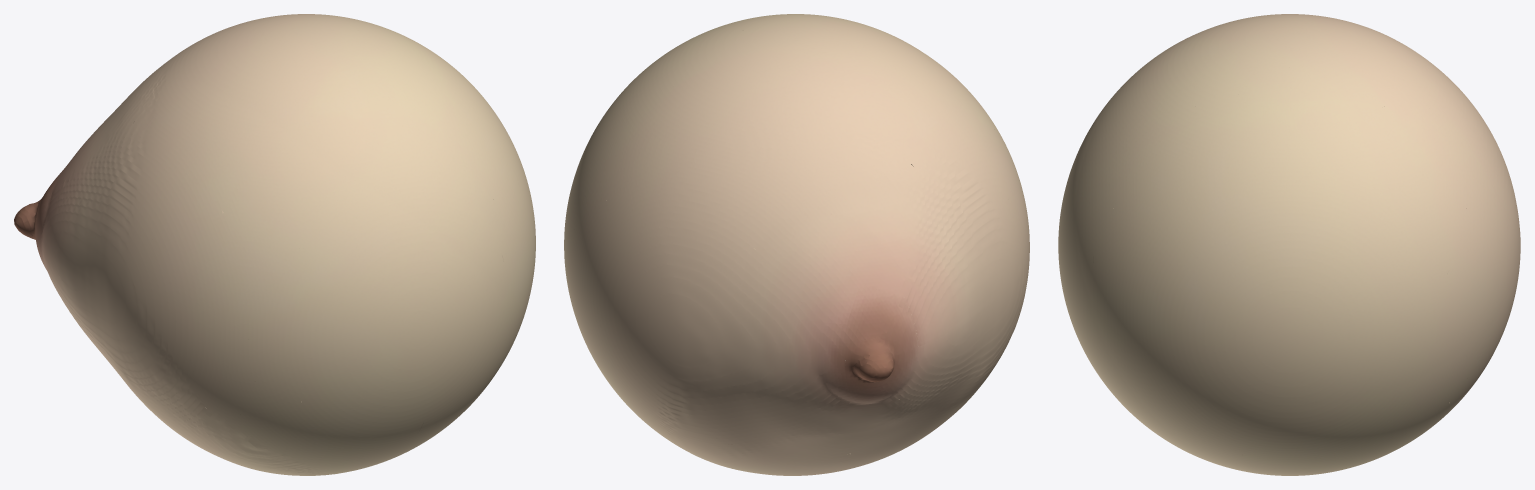
The model's file is orbbreast.fbx.
3 renders of one model, left to right at view 1: azimuth 30°, elevation 25°; view 2: azimuth 150°, elevation 25°; view 3: azimuth 270°, elevation 25°, orthographic.
Parts seen in each view (by area): view 1: Layer_1; view 2: Layer_1; view 3: Layer_1.
Boxes of the visible parts, x1,y1,x2,y2 form: Layer_1: (14, 14, 535, 475); Layer_1: (564, 14, 1029, 475); Layer_1: (1058, 14, 1520, 475).
Bounding box in the file's own units: 1.03 × 1.02 × 1.02.
